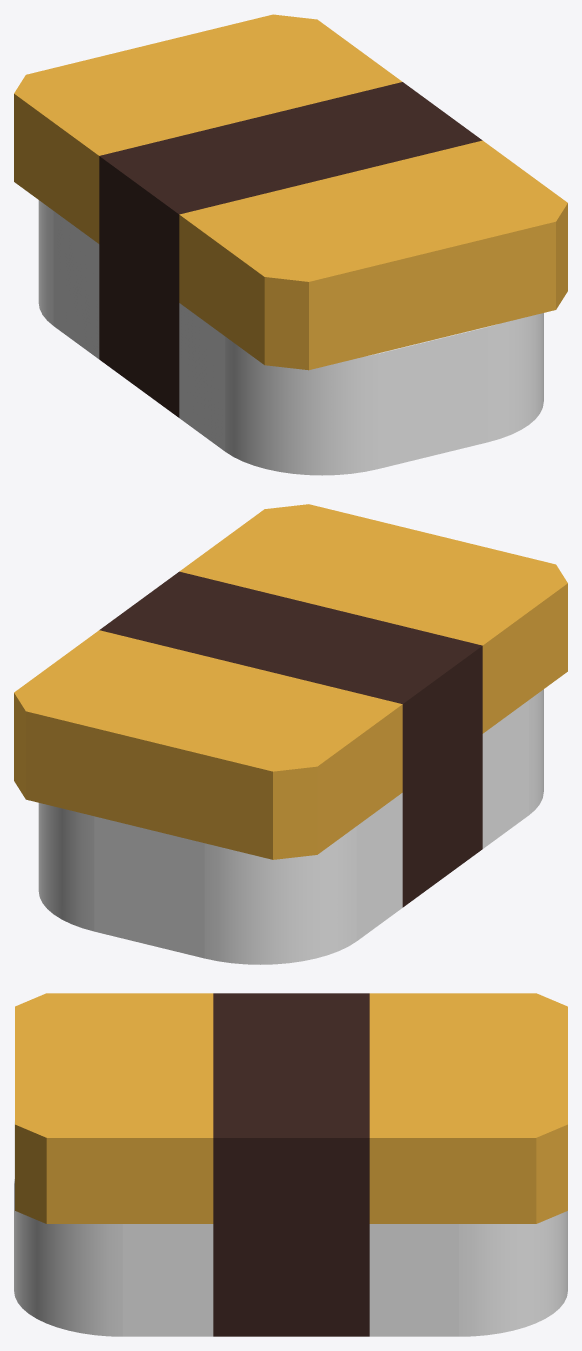
File: sushiEgg.obj
3 renders of one model, top to bottom at view 1: azimuth 30°, elevation 25°; view 2: azimuth 150°, elevation 25°; view 3: azimuth 270°, elevation 25°, orthographic. The views are drawn at different scales.
Visible parts, largest first — view 1: egg, sushiEgg; view 2: egg, sushiEgg; view 3: egg, sushiEgg.
Boxes of the visible parts, x1,y1,x2,y2 form: egg: (14,14,567,370); sushiEgg: (38,200,543,475); egg: (14,504,567,859); sushiEgg: (38,689,543,964); egg: (15,993,567,1223); sushiEgg: (14,1120,567,1336).
Bounding box in the file's own units: 0.1079 × 0.0692 × 0.1746.
